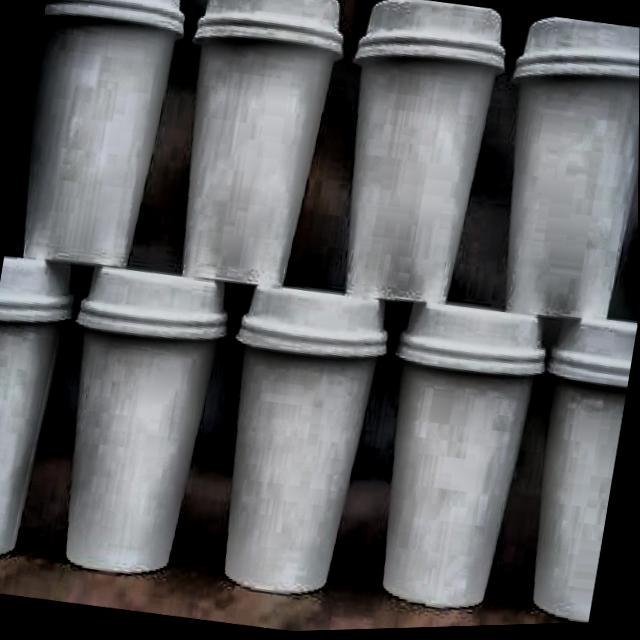Cup: (189, 297, 396, 619), (310, 17, 518, 327), (39, 273, 237, 585), (152, 0, 351, 298), (359, 321, 550, 622), (471, 29, 640, 339), (4, 0, 189, 278), (502, 344, 633, 628), (0, 259, 71, 569)
